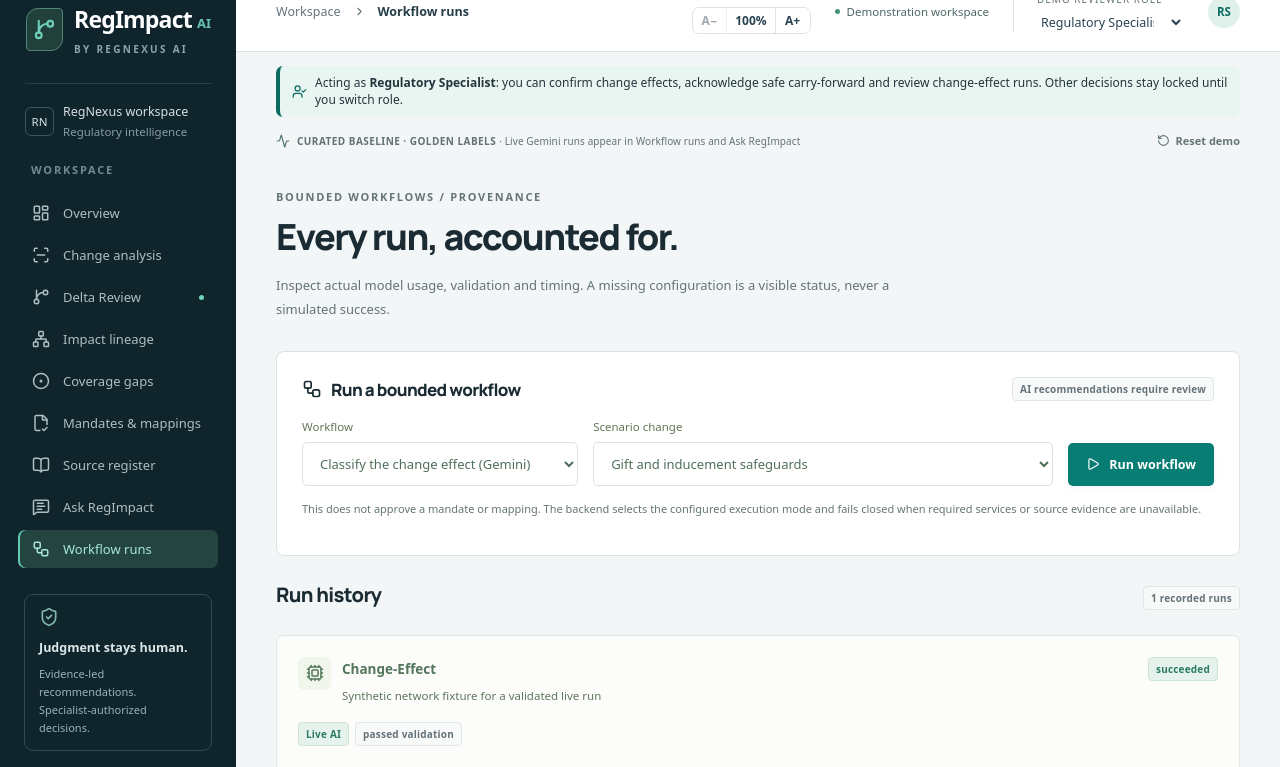
Human review of accepted workflow output › requires rationale and correct role then records an immutable approval
The width and height of the screenshot is (1280, 767).
Select "Policy Owner" in the dropdown labelled "DEMO REVIEWER ROLE" at (1110, 22), box [1037, 12, 1184, 32]
(page scrolled)
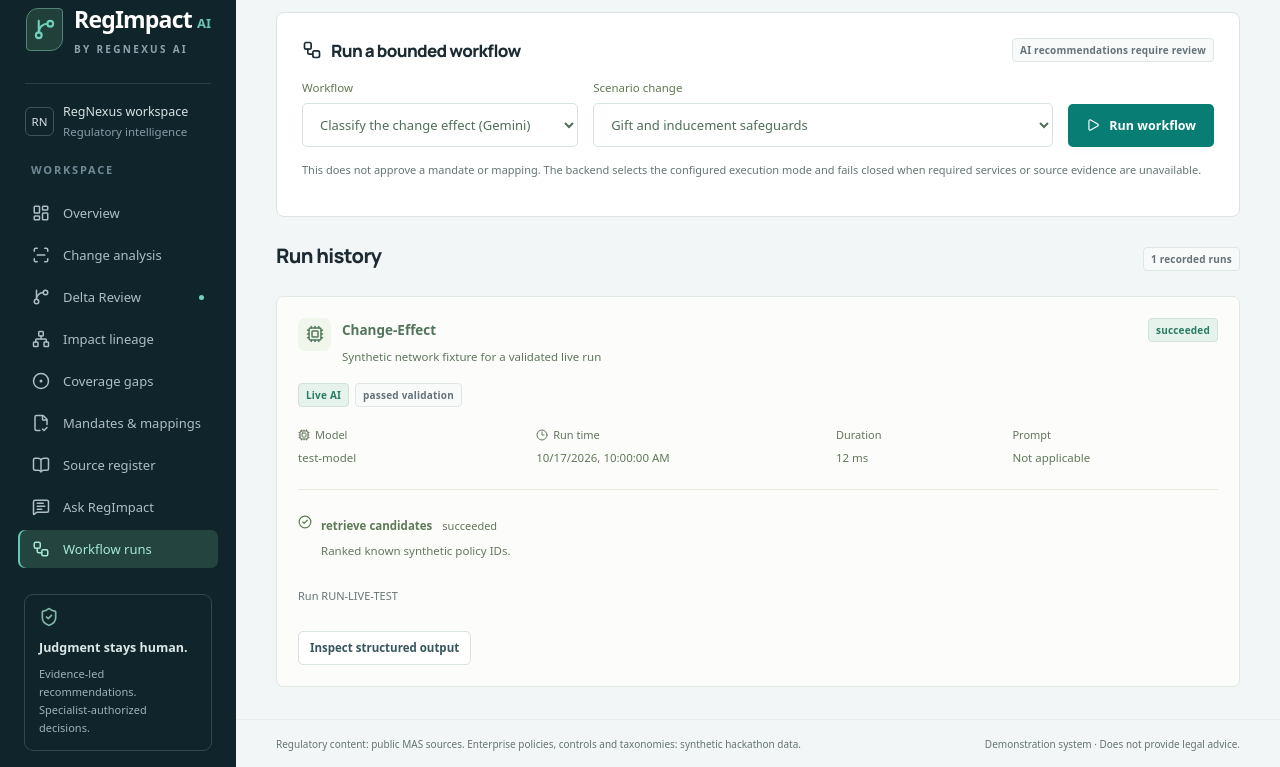
Click the button "Inspect structured output" at (385, 648), box [298, 630, 471, 665]
(page scrolled)
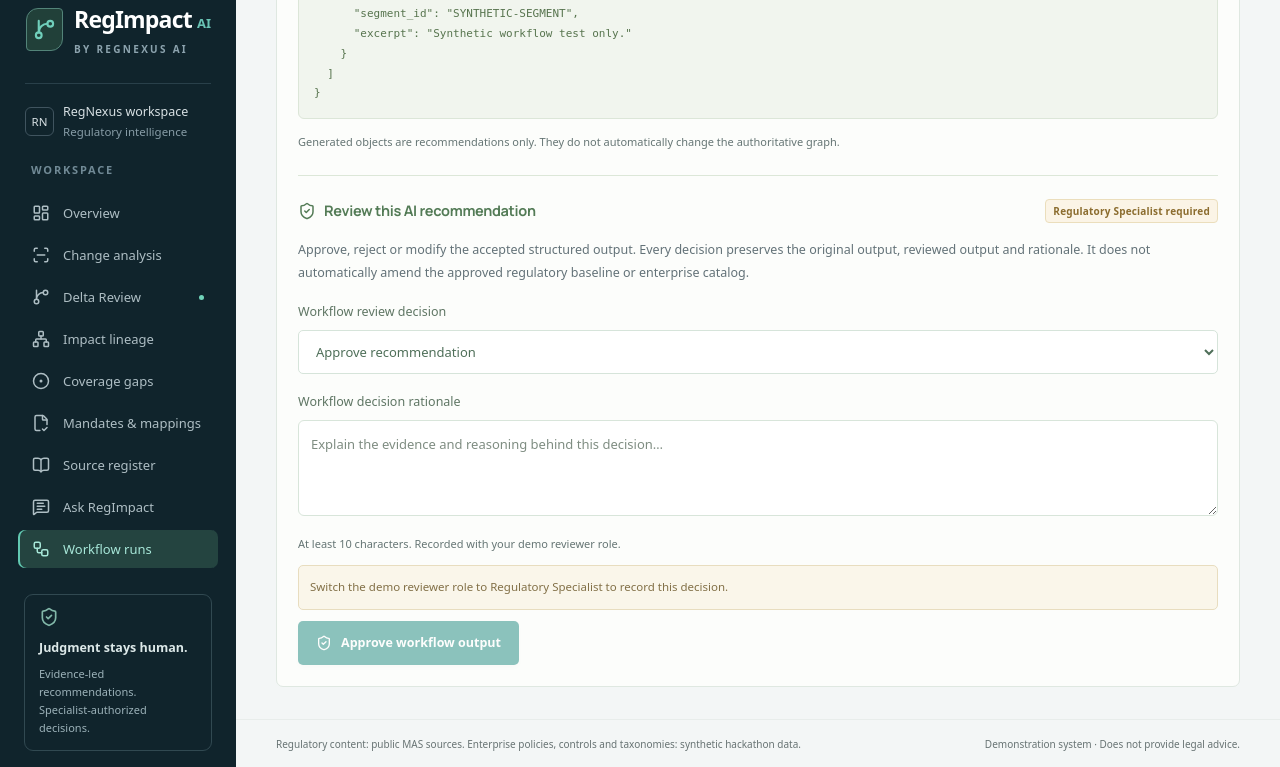
Expected: the button "Approve workflow output" is shown, [298, 621, 519, 665]
Type "Source evidence supports the proposed scope interpretation." into the text box labelled "Workflow decision rationale" at (758, 468), box [298, 420, 1218, 516]
(page scrolled)
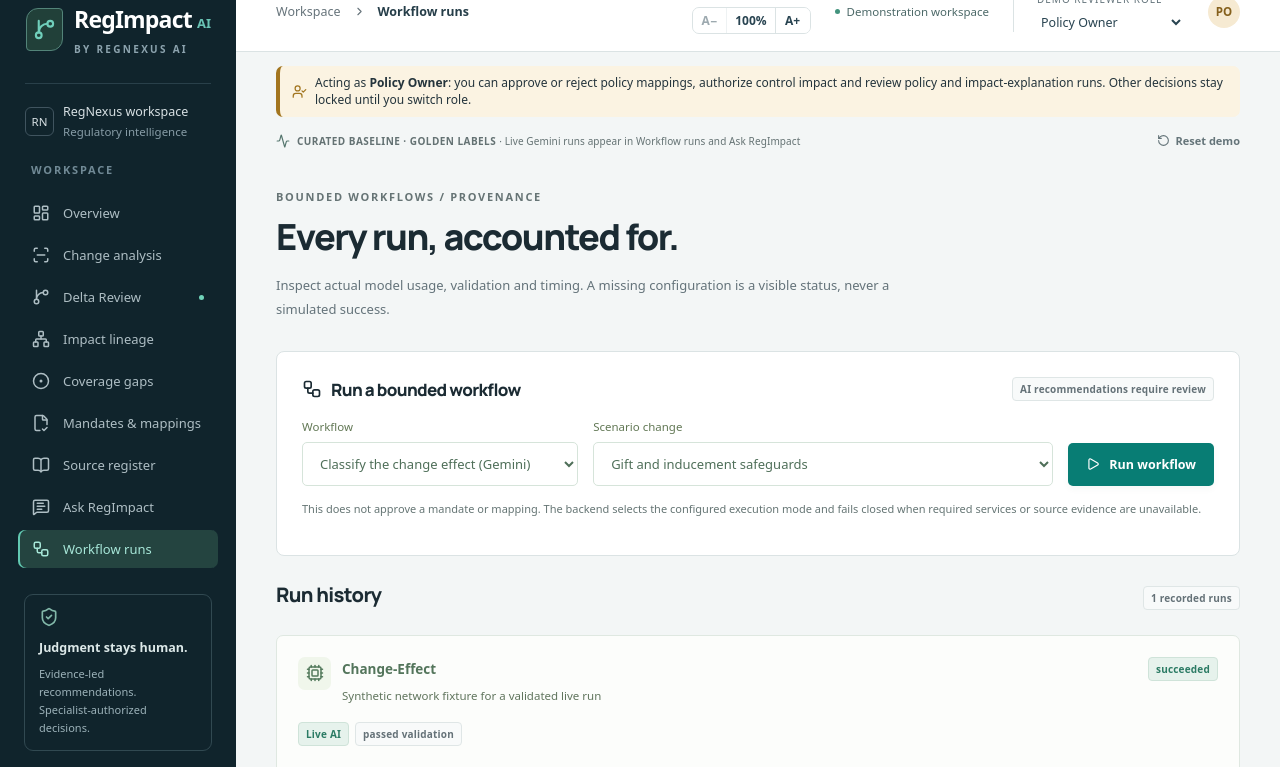
Select "Regulatory Specialist" in the dropdown labelled "DEMO REVIEWER ROLE" at (1110, 22), box [1037, 12, 1184, 32]
(page scrolled)
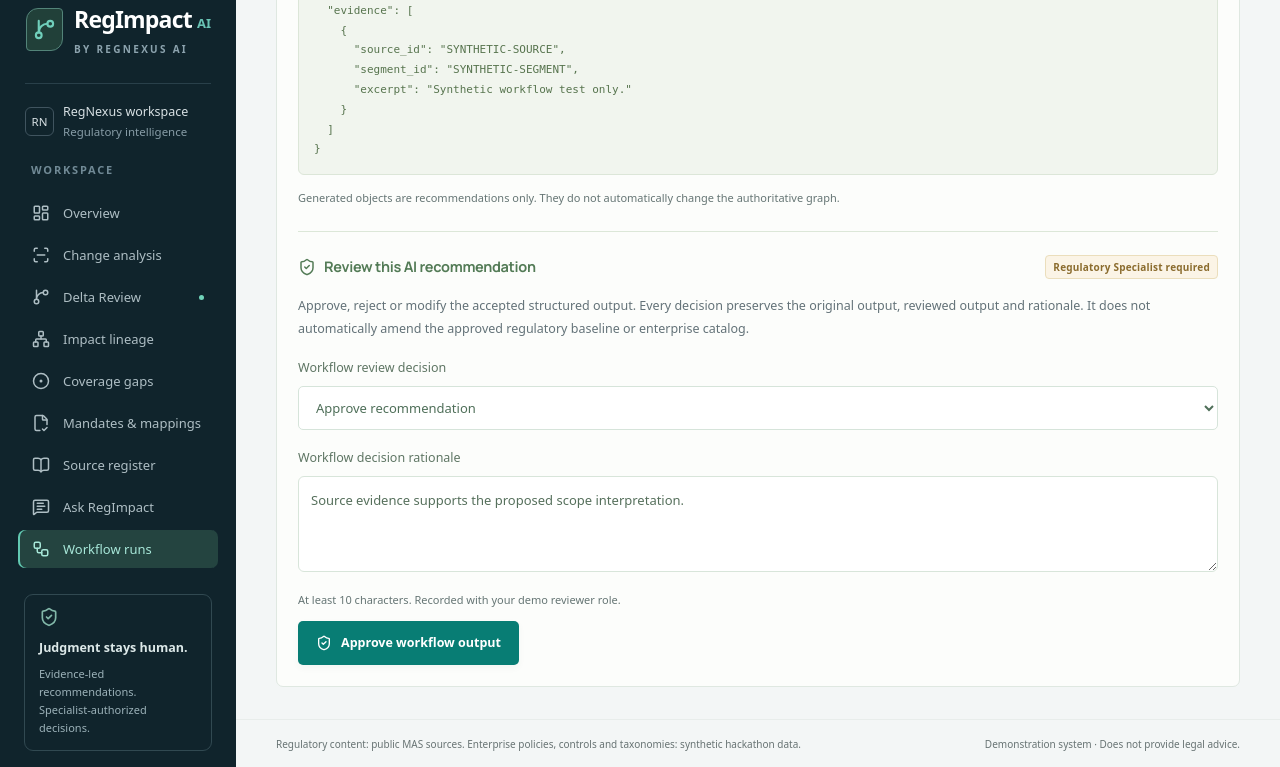
Click the button "Approve workflow output" at (408, 643), box [298, 621, 519, 665]
(page scrolled)
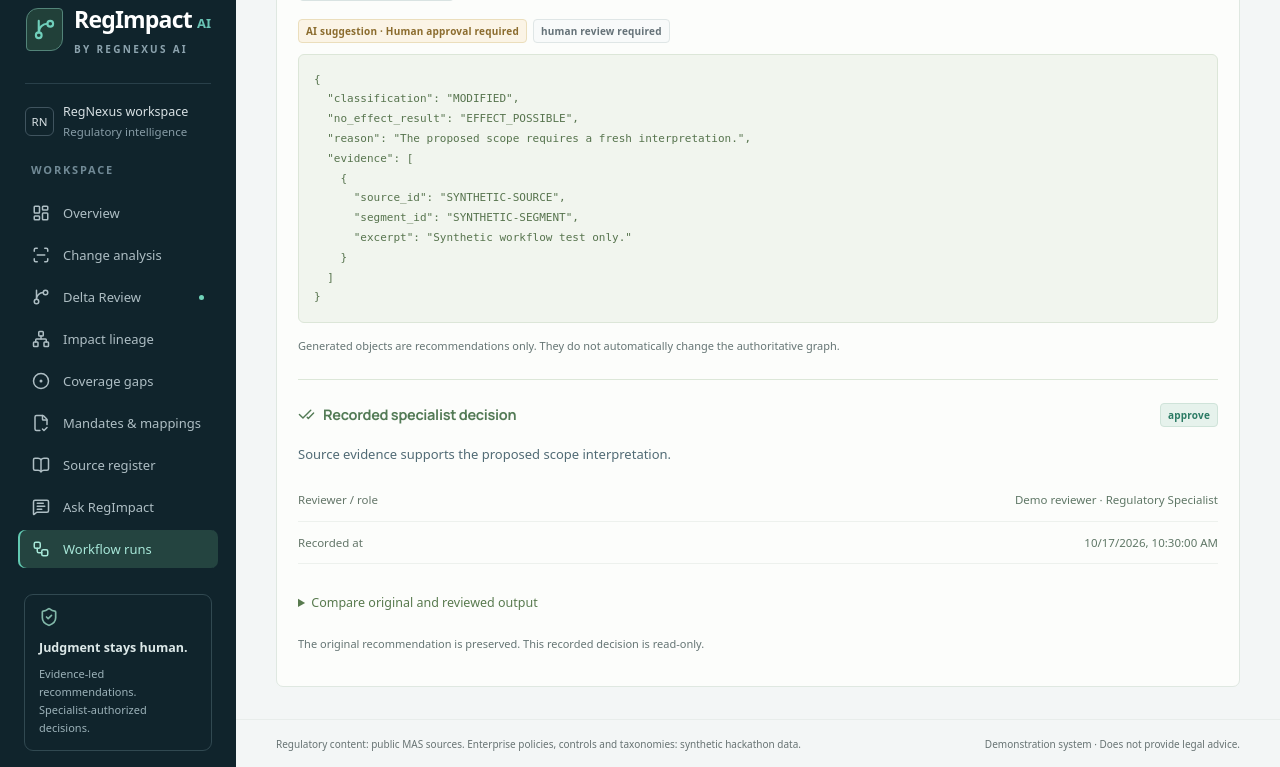
Expected: the heading "Recorded specialist decision" is shown, [298, 404, 516, 426]
Expected: the button "Approve workflow output" is gone
